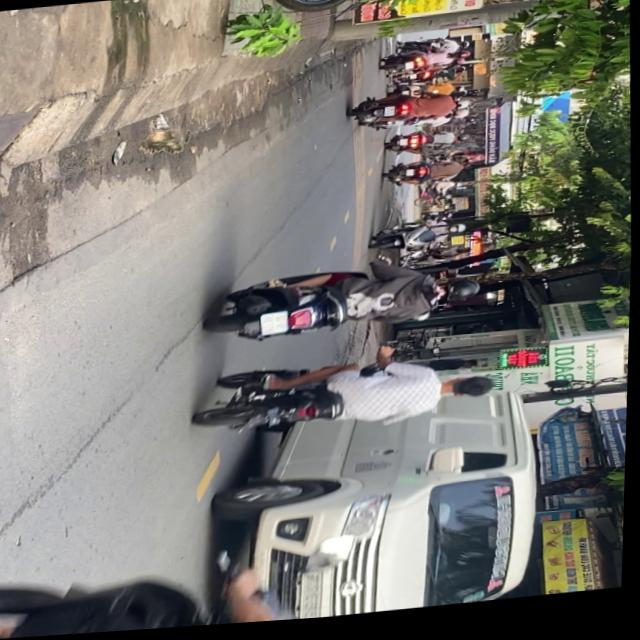helmet: (437, 282, 483, 311)
licenseplate: (194, 350, 500, 448), (206, 258, 485, 353)
motorcyclist: (445, 379, 497, 408)
nohelmet: (261, 316, 289, 339)
